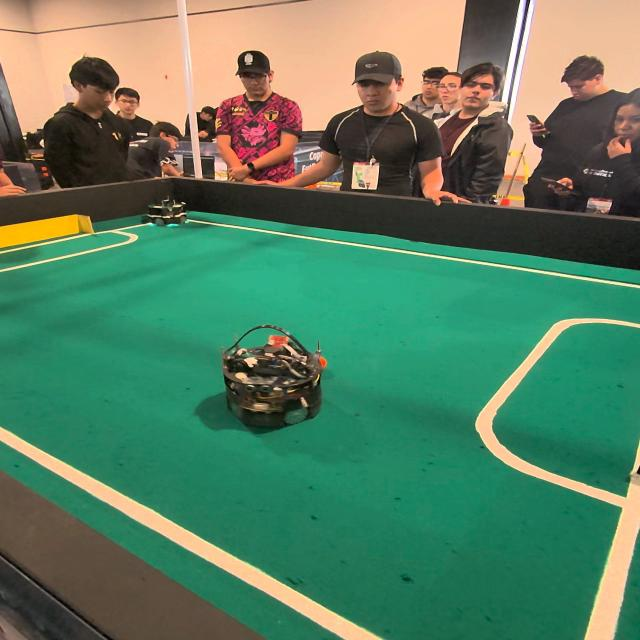Robot: (219, 322, 331, 434), (147, 177, 190, 229)
